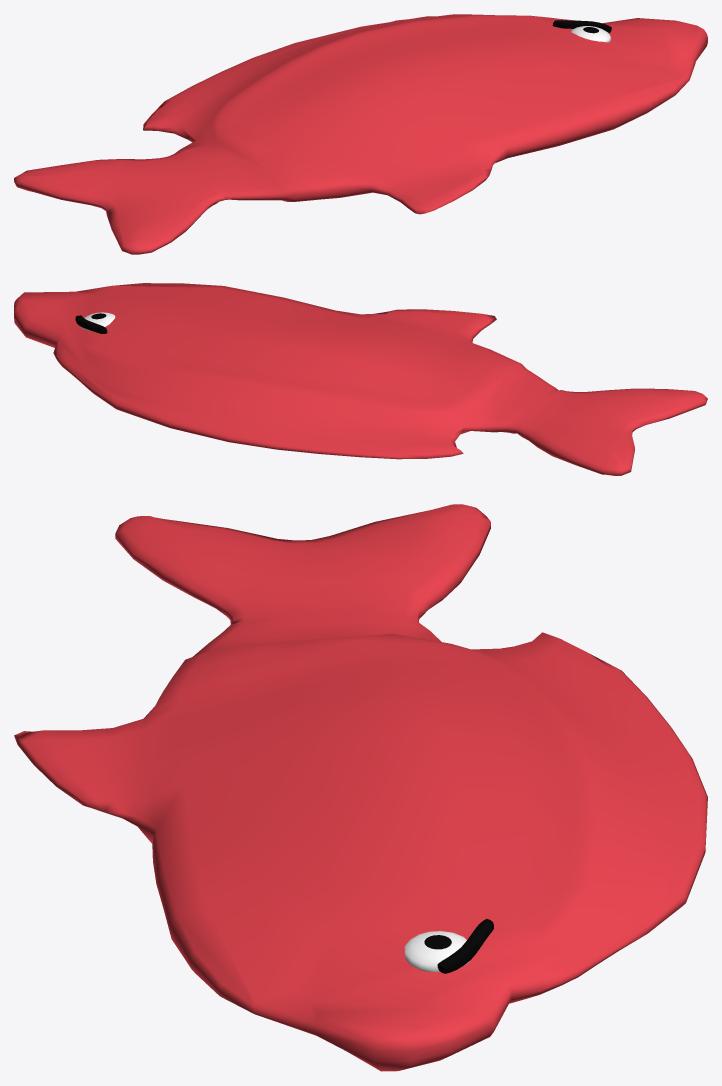
File: RedFish.fbx
3 views of the same model, one above another, from view 1: azimuth 30°, elevation 25°; view 2: azimuth 150°, elevation 25°; view 3: azimuth 270°, elevation 25° (orthographic). The views are drawn at different scales.
Parts seen in each view (by area): view 1: Fish, Eyes, EyeBrows; view 2: Fish, Eyes; view 3: Fish, Eyes, EyeBrows.
Boxes of the visible parts, left/top/right/bottom form: Fish: left=14, top=14, right=707, bottom=254; Eyes: left=571, top=26, right=611, bottom=42; EyeBrows: left=552, top=20, right=611, bottom=33; Fish: left=14, top=283, right=707, bottom=475; Eyes: left=80, top=312, right=115, bottom=330; Fish: left=14, top=504, right=707, bottom=1071; Eyes: left=404, top=931, right=469, bottom=972; EyeBrows: left=437, top=919, right=493, bottom=973.
Bounding box in the file's own units: 251 × 27.28 × 134.
